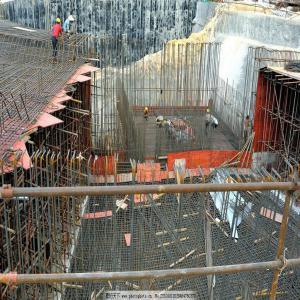none: (247, 116, 251, 122)
white: (70, 16, 74, 25), (212, 116, 215, 121)
yellow: (57, 18, 62, 27), (146, 107, 149, 113), (208, 109, 211, 115), (165, 121, 168, 126)
